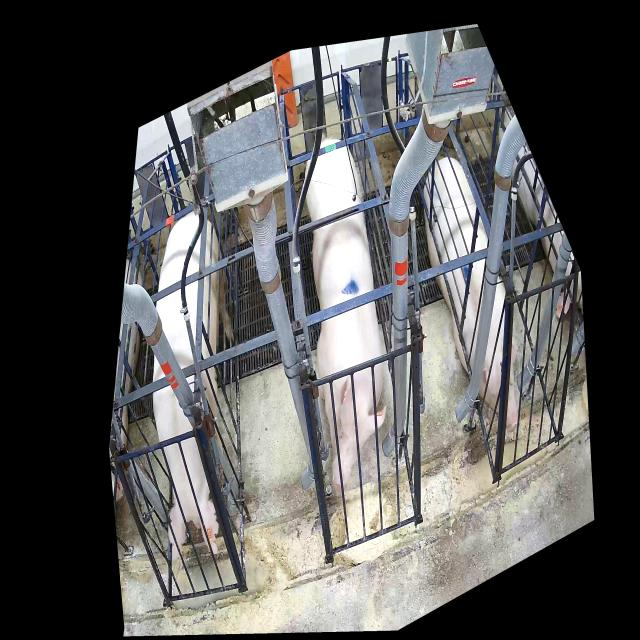pig: (306, 139, 387, 491), (153, 212, 232, 565), (424, 156, 519, 431)
